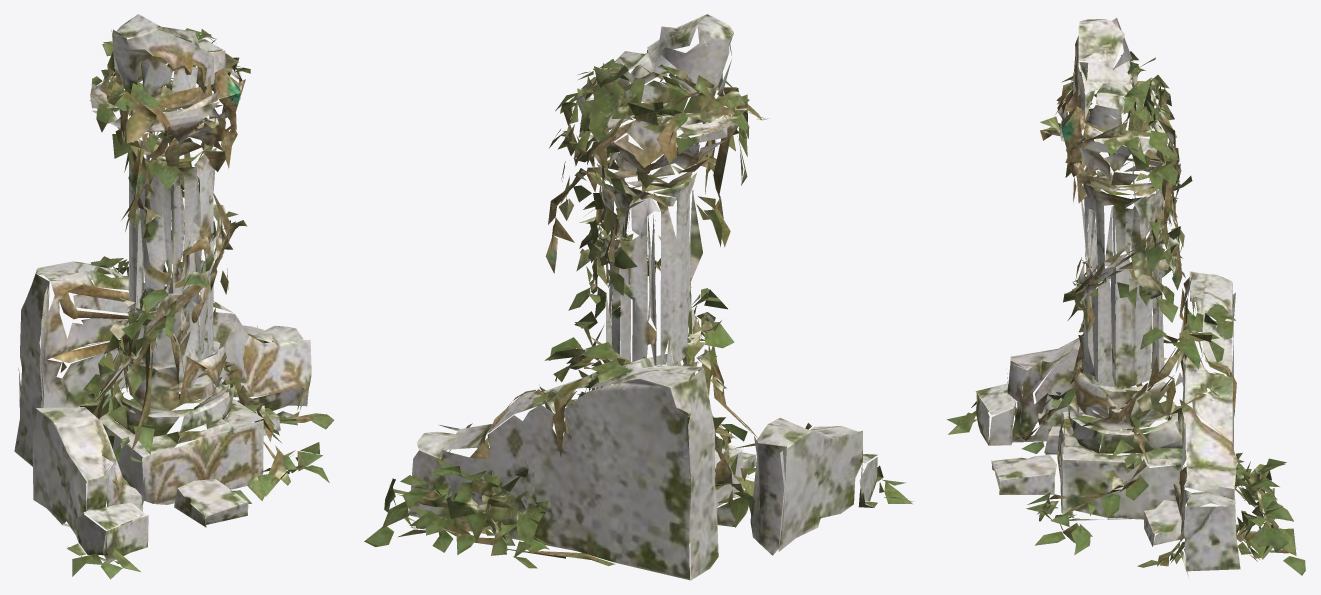
The model's file is deco_pillar_vine_lite.glb.
The picture shows the model from 3 angles, left to right: view 1: azimuth 30°, elevation 25°; view 2: azimuth 150°, elevation 25°; view 3: azimuth 270°, elevation 25°; orthographic projection. The views are drawn at different scales.
Parts seen in each view (by area): view 1: geometry_0; view 2: geometry_0; view 3: geometry_0.
Boxes of the visible parts, x1,y1,x2,y2 form: geometry_0: (14,14,334,579); geometry_0: (364,14,913,580); geometry_0: (946,18,1305,579).
Size of the model in its own units: 1.52 by 1.95 by 1.38.
Materials: 1 (1 with a texture image).
